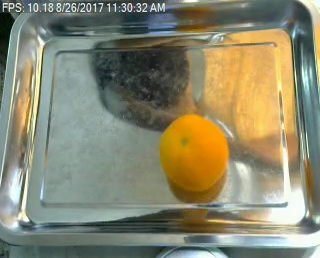Orange: (159, 114, 229, 190)
